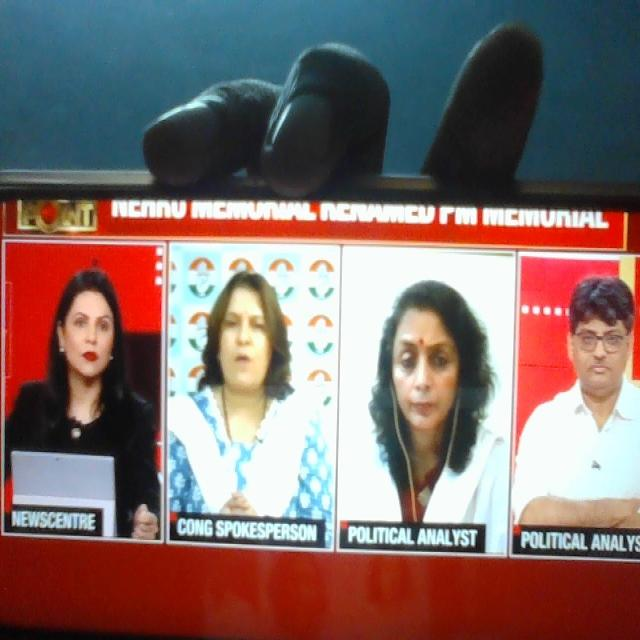fake: (374, 263, 482, 467)
